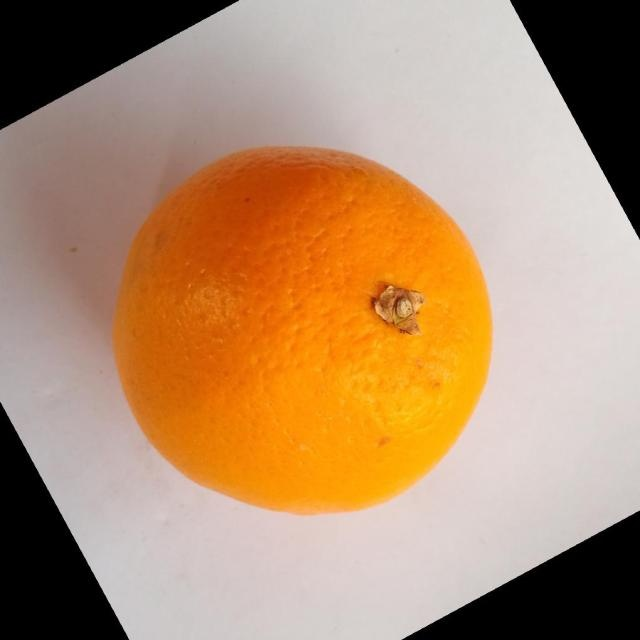agrume: (110, 143, 494, 516)
